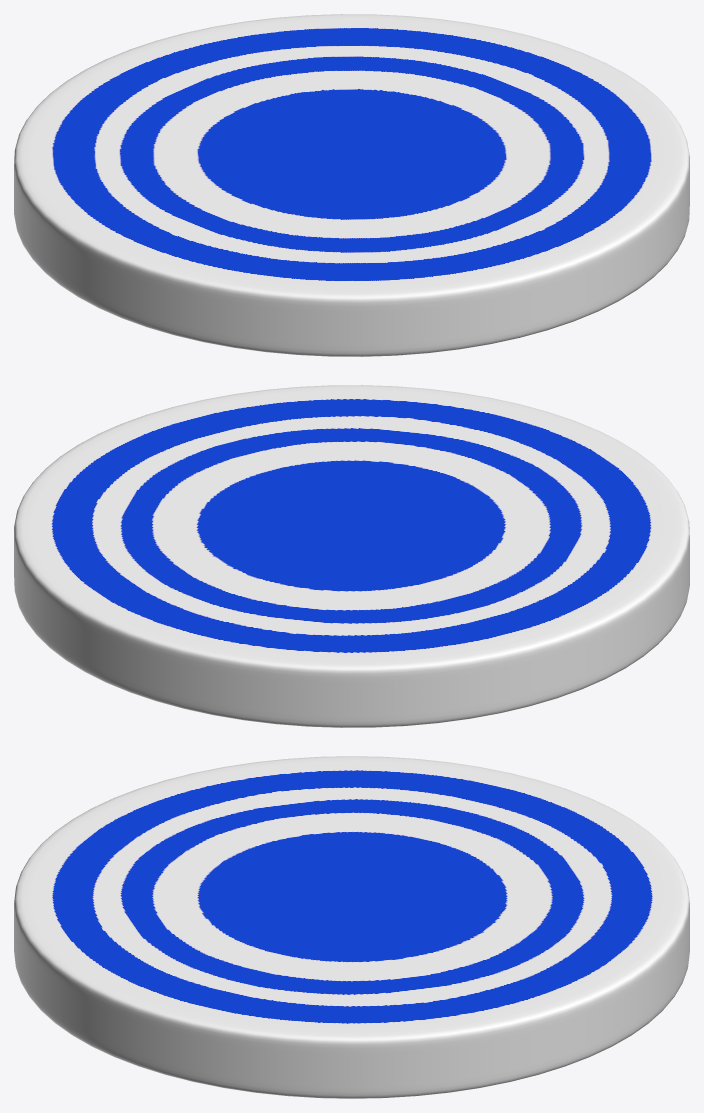
The model's file is NimbleBat.fbx.
The picture shows the model from 3 angles, top to bottom: view 1: azimuth 30°, elevation 25°; view 2: azimuth 150°, elevation 25°; view 3: azimuth 270°, elevation 25°; orthographic projection.
Parts seen in each view (by area): view 1: NimbleBat; view 2: NimbleBat; view 3: NimbleBat.
Boxes of the visible parts, left/top/right/bottom form: NimbleBat: left=14, top=14, right=689, bottom=356; NimbleBat: left=14, top=385, right=689, bottom=727; NimbleBat: left=14, top=756, right=689, bottom=1098.
Bounding box in the file's own units: 1.3 × 0.13 × 1.3.
